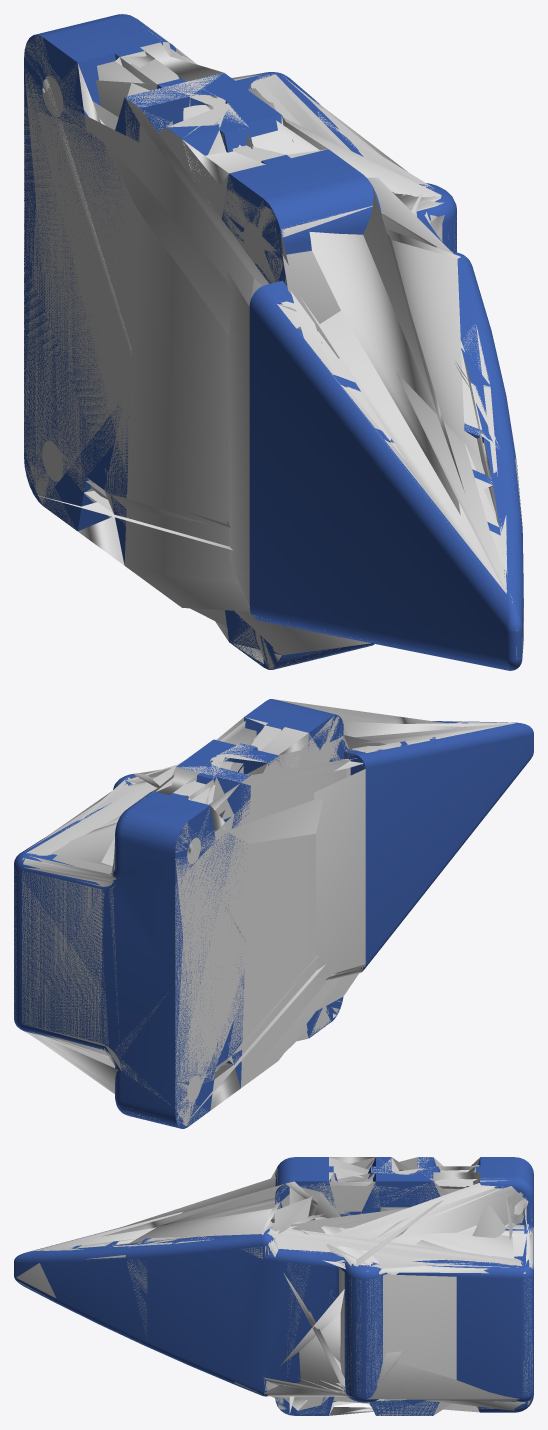
File: finger_11_2.dae
3 views of the same model, one above another, from view 1: azimuth 30°, elevation 25°; view 2: azimuth 150°, elevation 25°; view 3: azimuth 270°, elevation 25° (orthographic). The views are drawn at different scales.
Parts seen in each view (by area): view 1: node1, node0; view 2: node1, node0; view 3: node0, node1.
Part boxes in pixels (bbox=[...]): node1: bbox=[24, 25, 523, 669]; node0: bbox=[24, 14, 523, 670]; node1: bbox=[14, 699, 514, 1126]; node0: bbox=[14, 699, 533, 1128]; node0: bbox=[14, 1157, 533, 1415]; node1: bbox=[16, 1157, 533, 1415].
Bounding box in the file's own units: 0.0176 × 0.027 × 0.0543.
